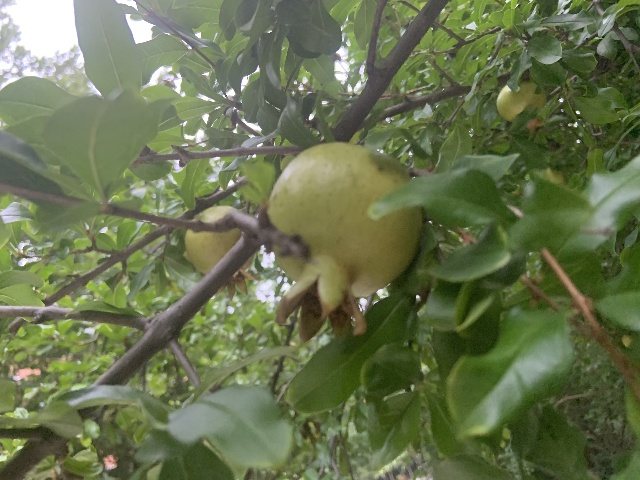mid-growth: (266, 141, 422, 342), (184, 205, 261, 300), (496, 81, 544, 133)
